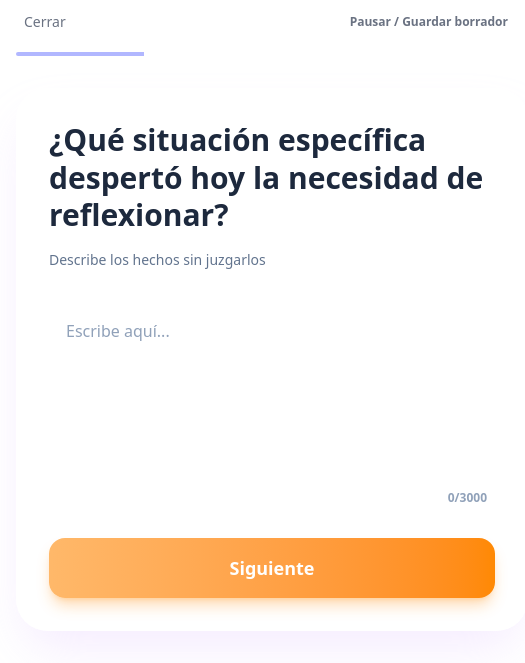
Scenario: NewSessionPage › clears the step 1 error as soon as the user types valid content
Click the button "Siguiente": (272,568) [49, 538, 495, 598]
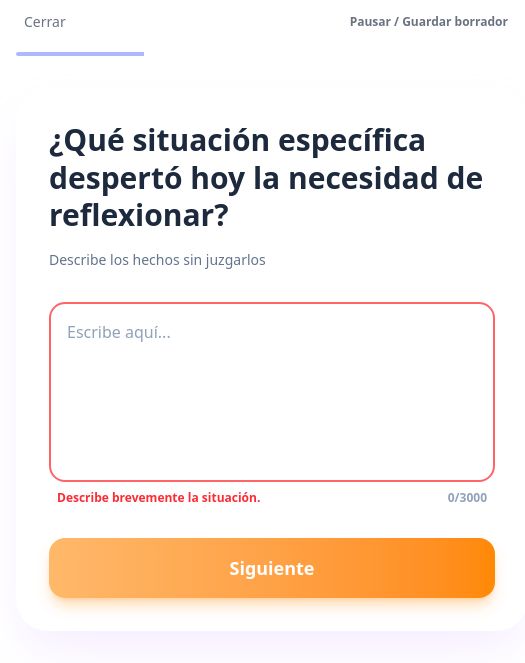
Check: the text "Describe brevemente la situación." is shown, box [57, 490, 260, 506]
In the text box with placeholder "Escribe aquí...": (272,392) [49, 302, 495, 482], type "Hello world"
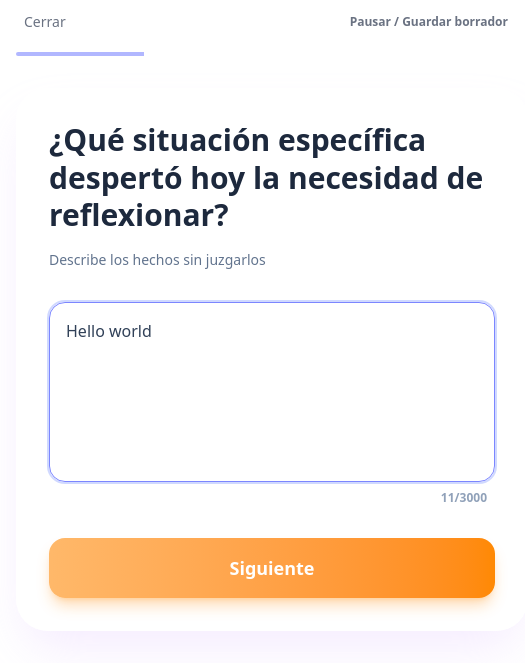
Check: the text "Describe brevemente la situación." is gone
